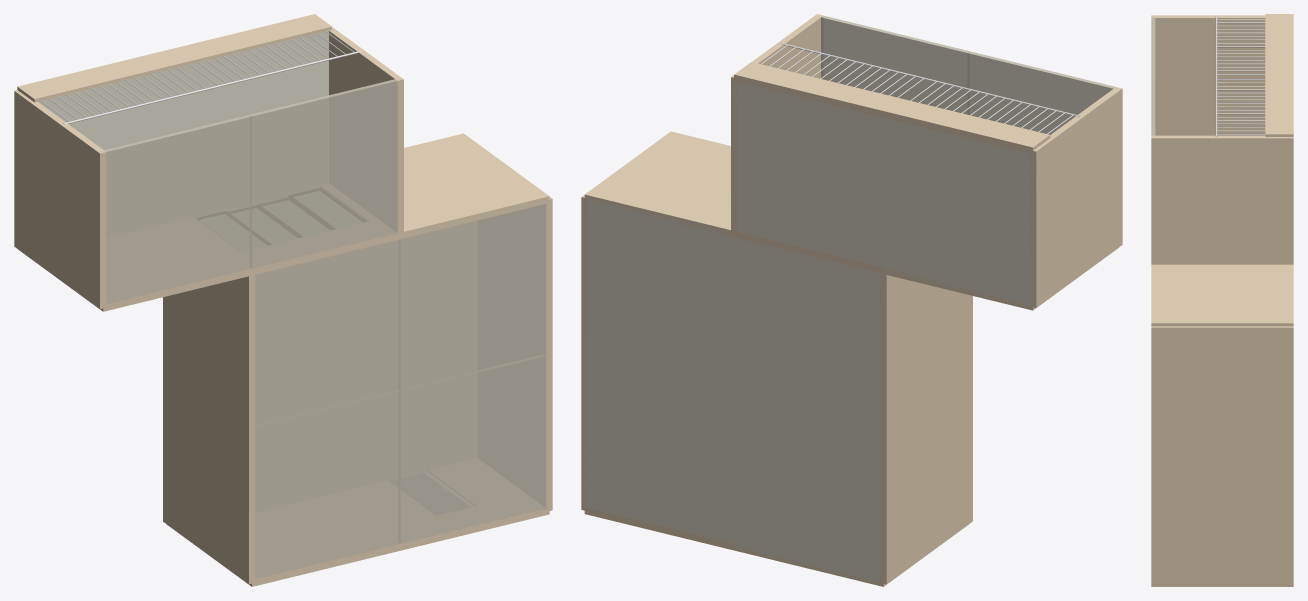
The model's file is Neighbour04.gltf.
The picture shows the model from 3 angles, left to right: view 1: azimuth 30°, elevation 25°; view 2: azimuth 150°, elevation 25°; view 3: azimuth 270°, elevation 25°; orthographic projection. The views are drawn at different scales.
Visible parts, largest first — view 1: ceiling_5, ceiling_4, ceiling_1, ceiling_2, ceiling, ceiling_3, wall, wall_7, wall_3, wall_5, floor_1, floor (+11 smaller); view 2: floor_3, floor_5, floor_4, floor, floor_2, floor_1, wall, wall_7, wall_3, wall_5, ceiling_4, ceiling_5 (+11 smaller); view 3: wall_4, wall_6, wall_2, wall, wall_5, SIP_2, SIP_1, Railing_1, Railing, ceiling_5, ceiling_4, SIP.
Part boxes in pixels (x1,y1,x2,y2): ceiling_5: (101,114,251,304); ceiling_4: (250,79,397,268); ceiling_1: (400,356,546,543); ceiling_2: (400,204,546,391); ceiling: (255,391,400,579); ceiling_3: (255,239,400,426); wall: (14,90,106,309); wall_7: (163,366,255,584); wall_3: (163,273,255,428); wall_5: (401,133,549,238); floor_1: (183,30,328,130); floor: (38,66,183,150); floor_3: (584,198,733,390); floor_5: (734,391,883,582); floor_4: (584,354,733,543); floor: (883,118,1032,306); floor_2: (734,237,883,426); floor_1: (734,81,883,267); wall: (1030,87,1122,307); wall_7: (880,365,972,584); wall_3: (880,271,972,427); wall_5: (584,131,733,237); ceiling_4: (821,15,969,114); ceiling_5: (967,51,1115,134); wall_4: (1151,326,1293,456); wall_6: (1151,456,1293,585); wall_2: (1151,135,1293,264); wall: (1151,15,1265,135); wall_5: (1151,264,1293,326); SIP_2: (1265,74,1293,136); SIP_1: (1265,14,1293,73); Railing_1: (1215,76,1265,136); Railing: (1215,16,1265,76); ceiling_5: (1151,17,1155,76); ceiling_4: (1151,77,1155,135); SIP: (1151,585,1293,586).
Size of the model in its own units: 10.65 by 10.65 by 3.5.
